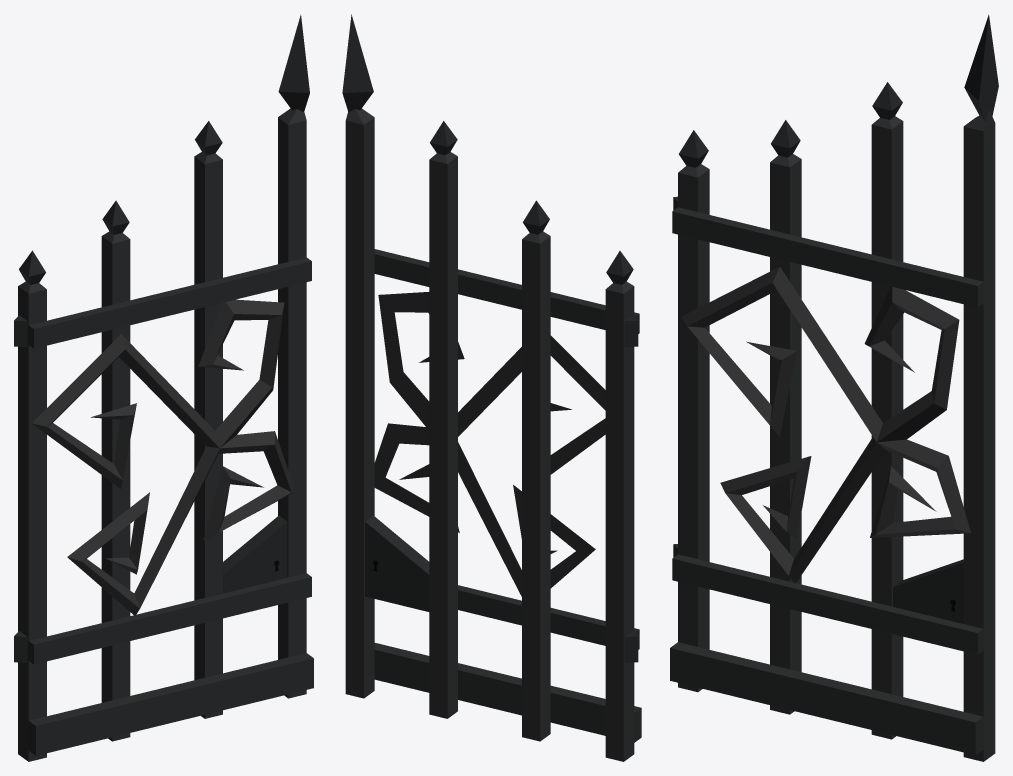
File: Graveyard Gate 01.fbx
The picture shows the model from 3 angles, left to right: view 1: azimuth 30°, elevation 25°; view 2: azimuth 150°, elevation 25°; view 3: azimuth 330°, elevation 25°; orthographic projection. The views are drawn at different scales.
Parts seen in each view (by area): view 1: Graveyard_Gate_01; view 2: Graveyard_Gate_01; view 3: Graveyard_Gate_01.
Part boxes in pixels (bbox=[...]): Graveyard_Gate_01: bbox=[14, 14, 313, 761]; Graveyard_Gate_01: bbox=[342, 14, 641, 761]; Graveyard_Gate_01: bbox=[670, 14, 998, 761].
Size of the model in its own units: 157 by 354 by 20.53.
